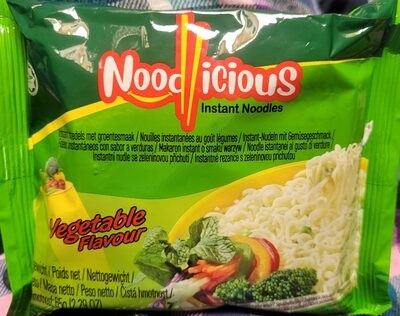instant noodles: (20, 16, 380, 300)
